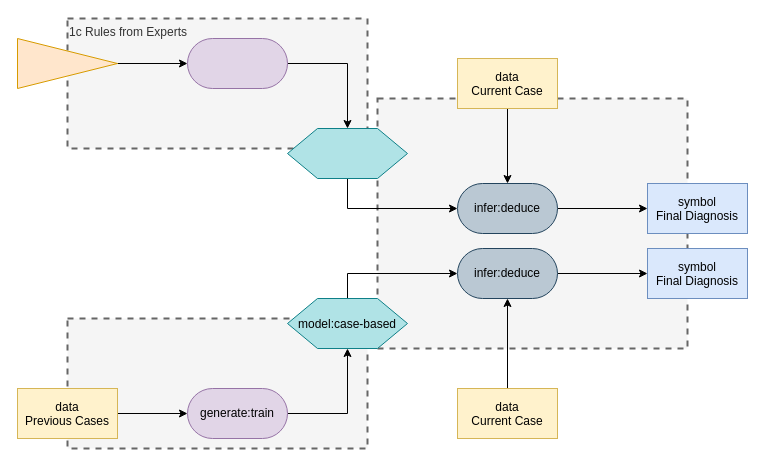
This 765x466 diagram has some shape labels left out. The box of each missing label's shape, as (x1, y1, x2, y2) in pixels:
1a Train from Previous Cases: (66, 317, 368, 449)
2b Final Decision: (376, 97, 688, 349)
actor Physicians: (16, 38, 118, 88)
generate:engineer: (186, 38, 288, 88)
model:rule-based: (286, 128, 408, 178)
